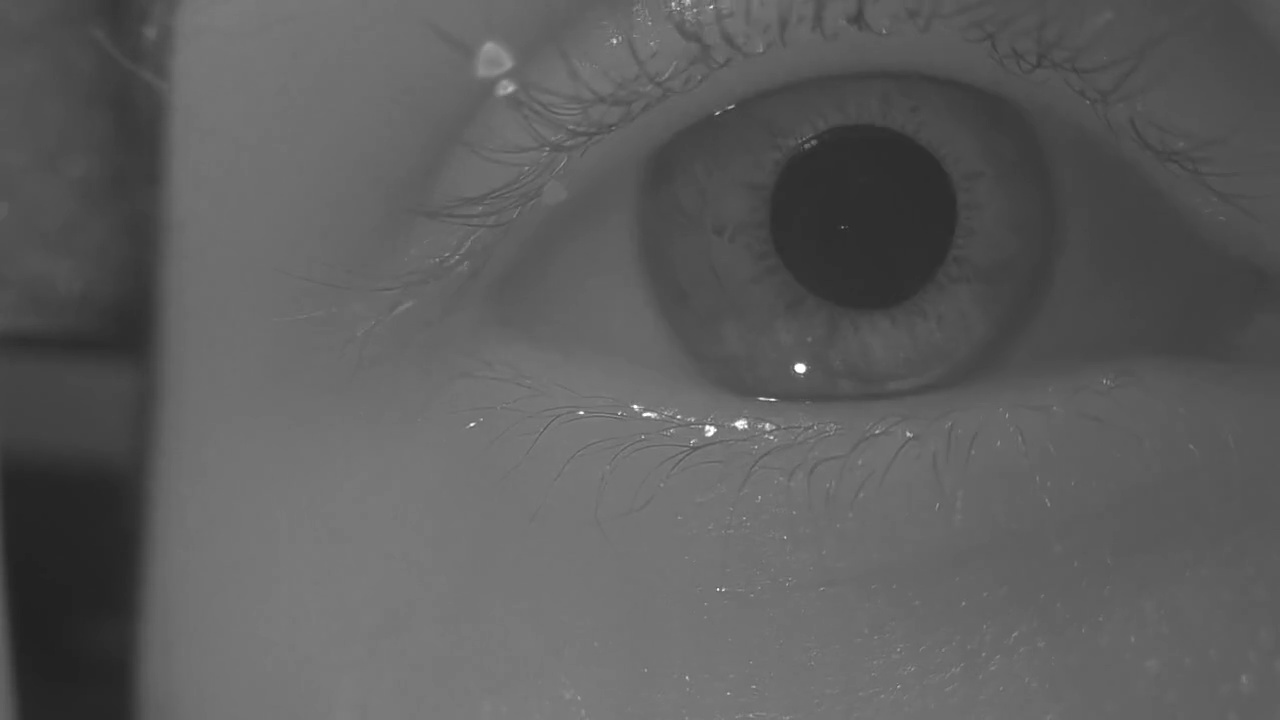pupil: (770, 125, 957, 309)
